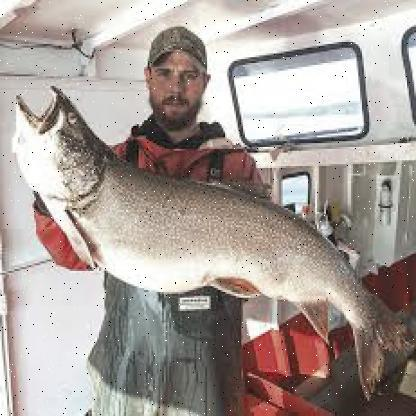fish: (9, 74, 407, 400)
